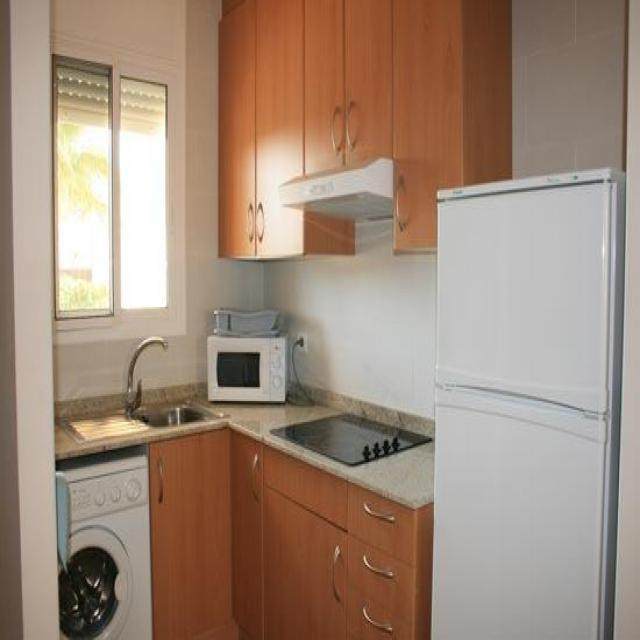2001: (51, 37, 179, 337)
faucet handle: (121, 337, 165, 410)
handle bar: (362, 553, 394, 581), (360, 609, 394, 633), (362, 502, 393, 523), (329, 542, 339, 603), (249, 453, 261, 502), (157, 453, 164, 504)
kitchen: (179, 380, 432, 507)
kitchen cupboards: (215, 0, 509, 256)
knobs: (357, 432, 403, 460)
microwave: (202, 335, 285, 399)
range hood: (283, 155, 393, 221)
refrigerator: (429, 166, 623, 638)
sink basin: (55, 394, 222, 443)
socket: (294, 328, 306, 352)
stove top: (270, 410, 428, 467)
washer: (56, 452, 149, 638)
